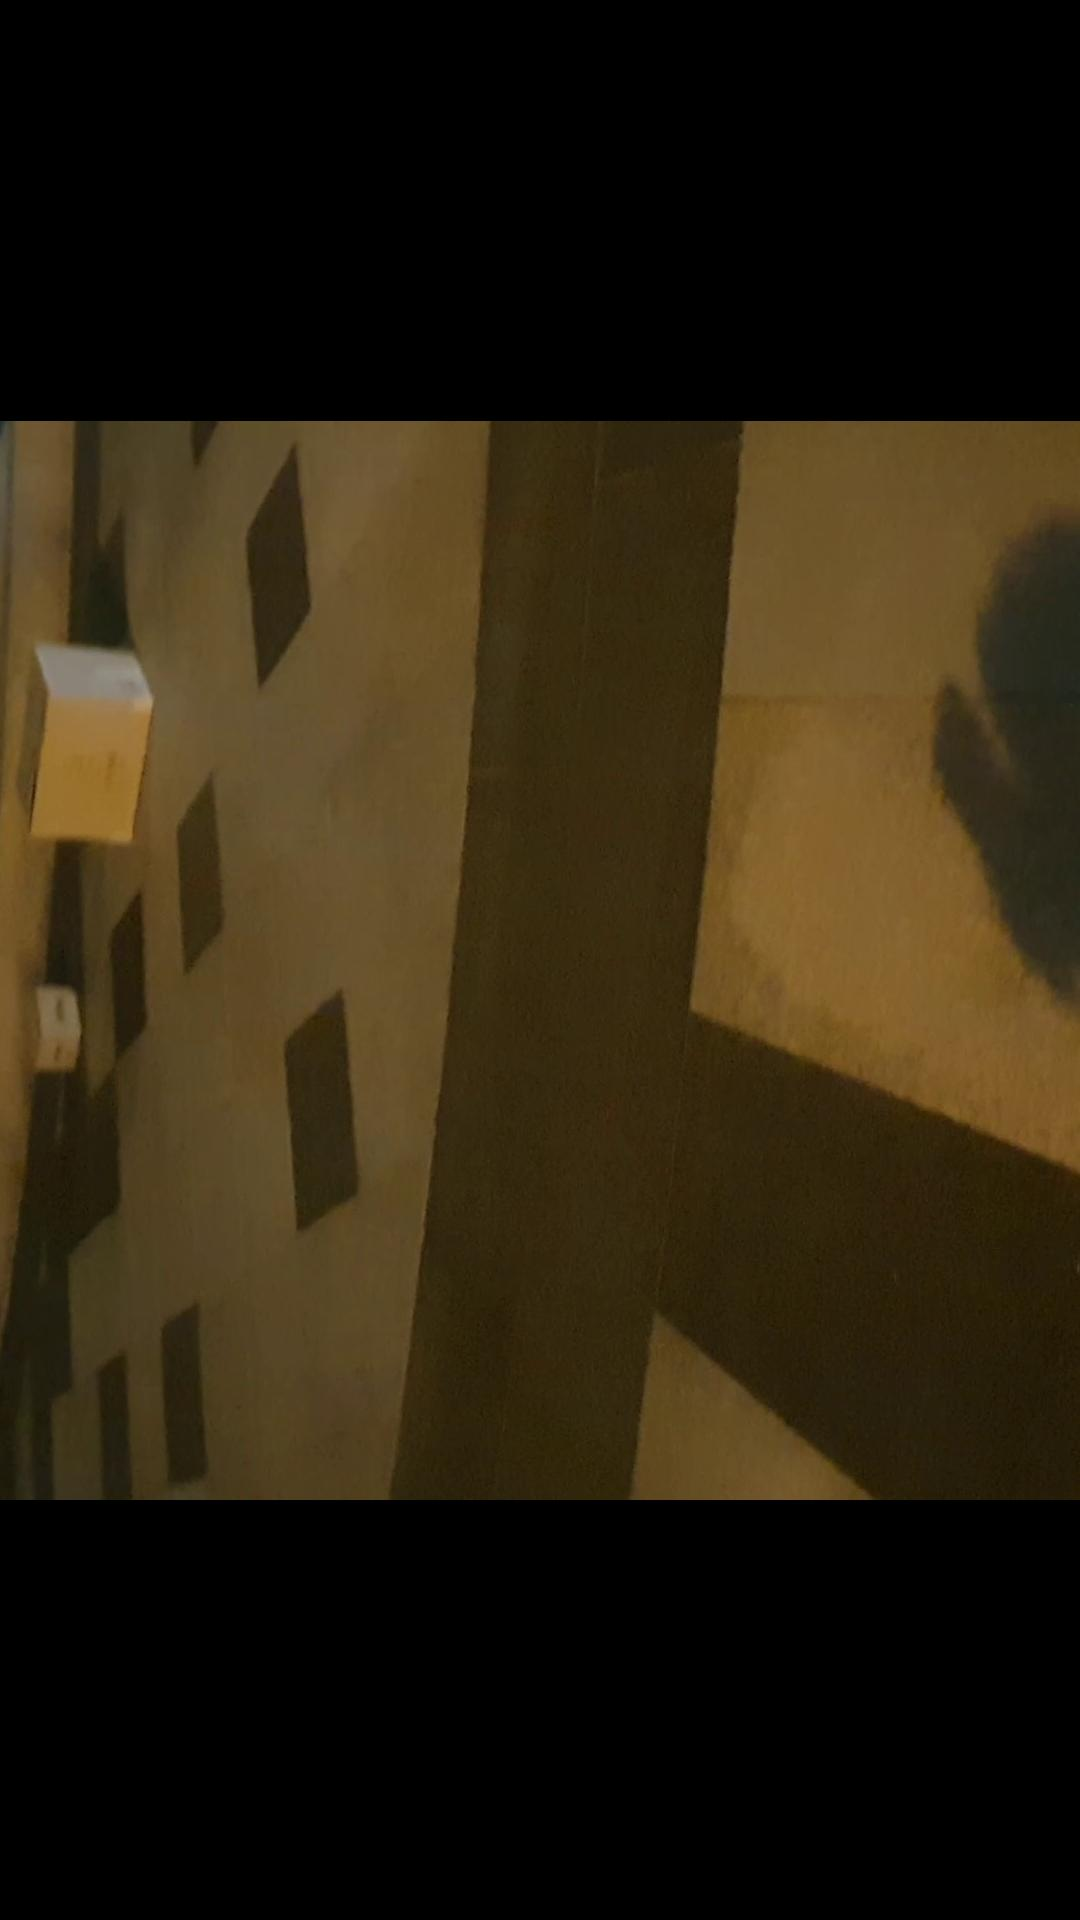Box: (8, 628, 156, 844), (18, 968, 88, 1083)
